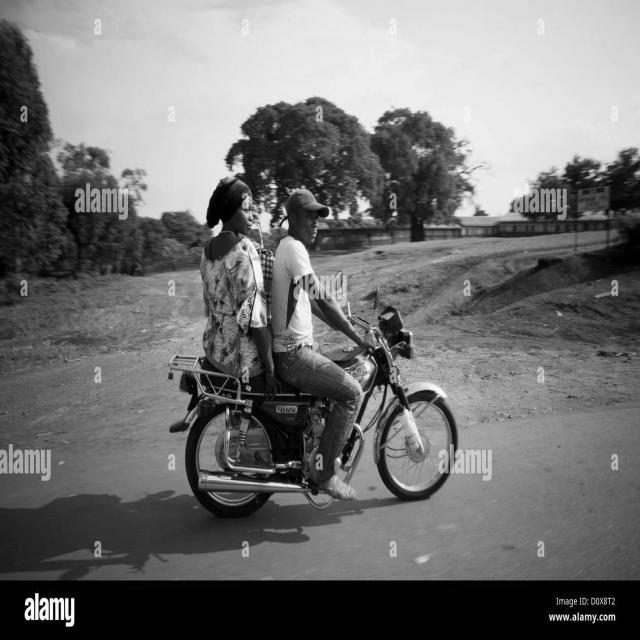Motorbike: (169, 178, 460, 519)
